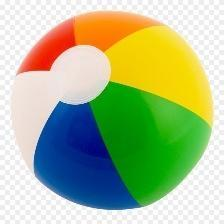Sports-Ball: (9, 10, 217, 209)
